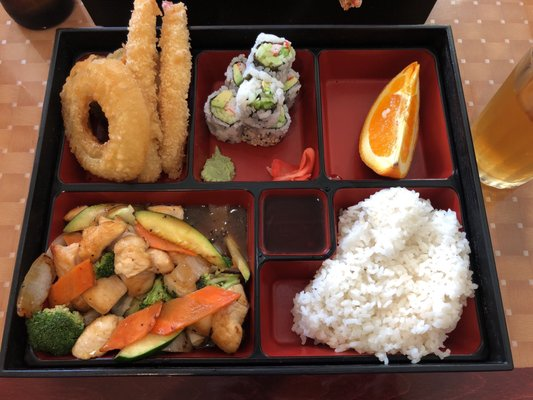curry: (24, 305, 85, 356), (94, 250, 116, 278)
pizza: (475, 41, 533, 190), (1, 0, 77, 31)
sushi: (9, 189, 255, 376)
taco: (358, 61, 421, 179)
